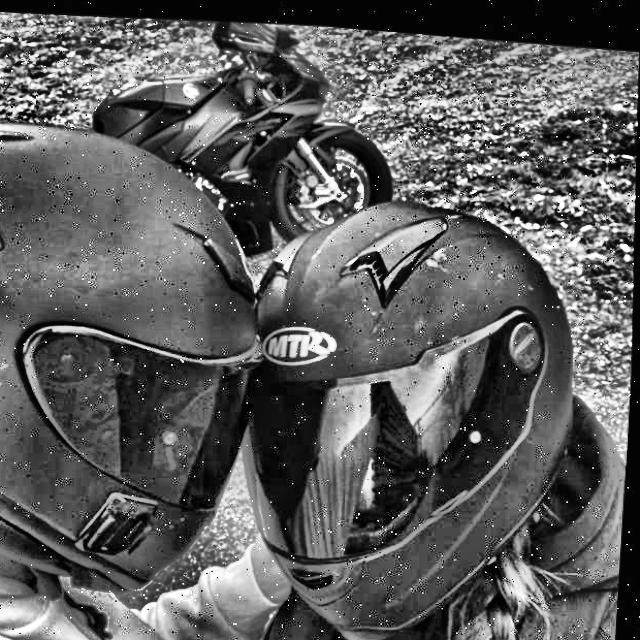Helmet: (224, 168, 601, 640), (0, 98, 289, 608)
